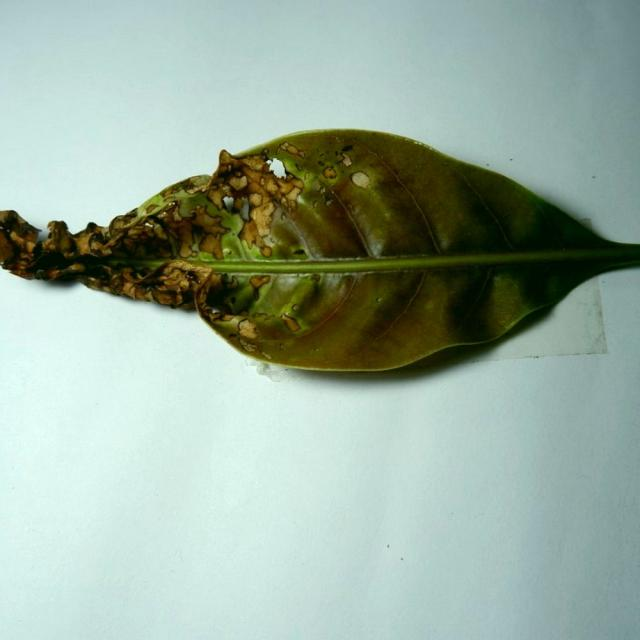Anthracnose: (215, 159, 302, 254), (180, 203, 229, 258), (263, 157, 304, 208), (212, 310, 262, 351), (68, 222, 112, 259), (170, 216, 198, 257), (156, 268, 192, 294), (239, 165, 272, 191), (159, 259, 203, 278), (239, 218, 262, 252), (193, 207, 223, 231), (11, 227, 38, 252), (236, 153, 268, 172), (206, 183, 229, 208), (150, 287, 180, 306), (277, 141, 306, 159), (120, 279, 145, 299), (185, 175, 212, 193), (119, 267, 143, 284), (228, 173, 248, 191), (335, 151, 353, 167), (248, 192, 263, 207), (240, 205, 250, 221), (196, 205, 206, 215)
Mango: (0, 131, 639, 379)
